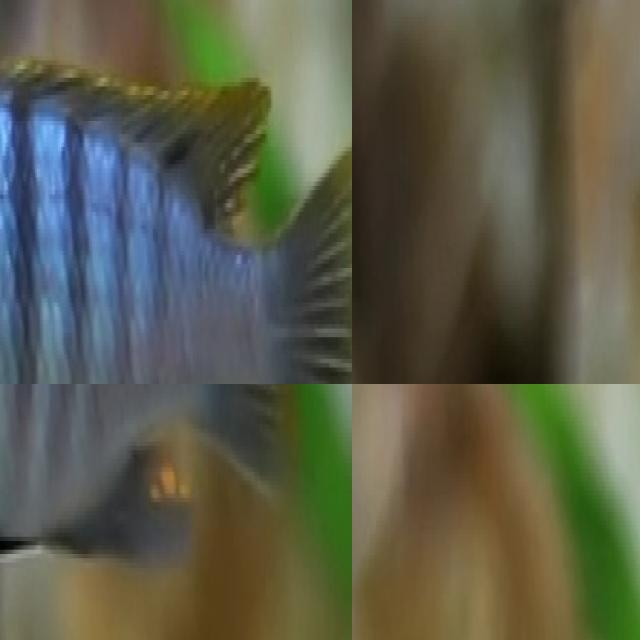fish: (0, 0, 352, 384), (0, 384, 307, 632)
